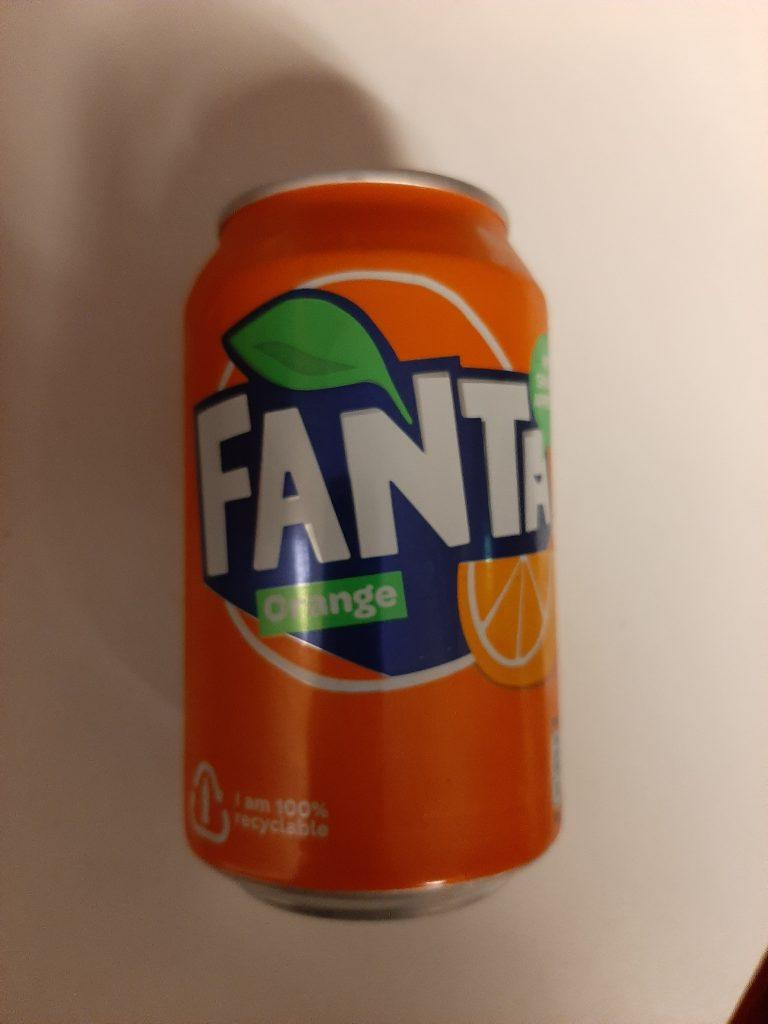metal: (183, 172, 560, 914)
